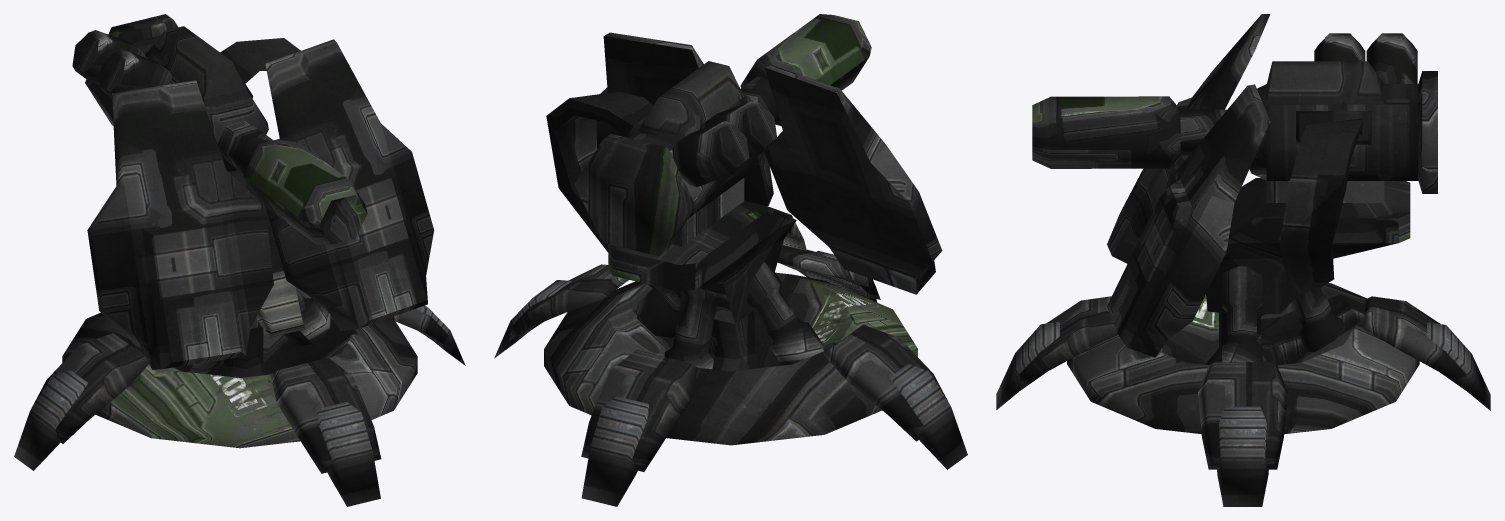
Rendered from GunTurret.FBX.
3 views of the same model, side by side, from view 1: azimuth 30°, elevation 25°; view 2: azimuth 150°, elevation 25°; view 3: azimuth 270°, elevation 25° (orthographic). The views are drawn at different scales.
Parts seen in each view (by area): view 1: 对象012, AutoTurret; view 2: 对象012, AutoTurret; view 3: 对象012, AutoTurret.
Part boxes in pixels (x1,y1,x2,y2): 对象012: (72, 14, 434, 369); AutoTurret: (14, 287, 465, 506); 对象012: (546, 14, 942, 323); AutoTurret: (494, 245, 967, 506); 对象012: (1032, 14, 1437, 357); AutoTurret: (996, 266, 1490, 506).
Bounding box in the file's own units: 1.47 × 1.1 × 1.47.
1 material, 1 textured.
